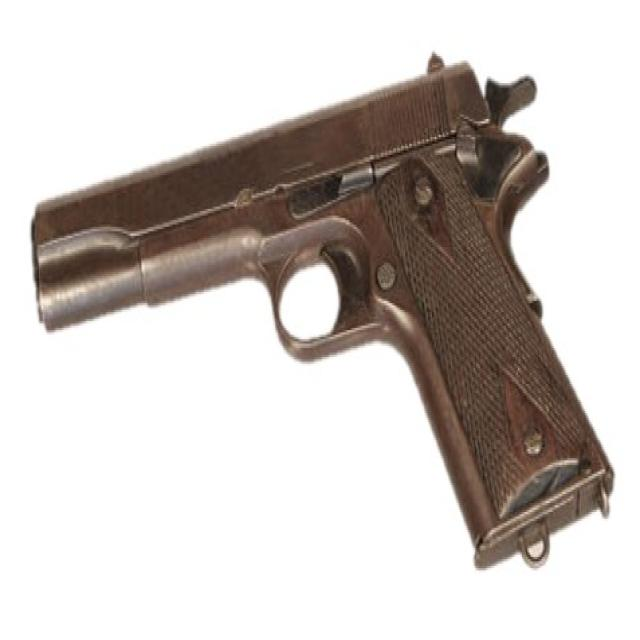pistol: (29, 39, 620, 586)
